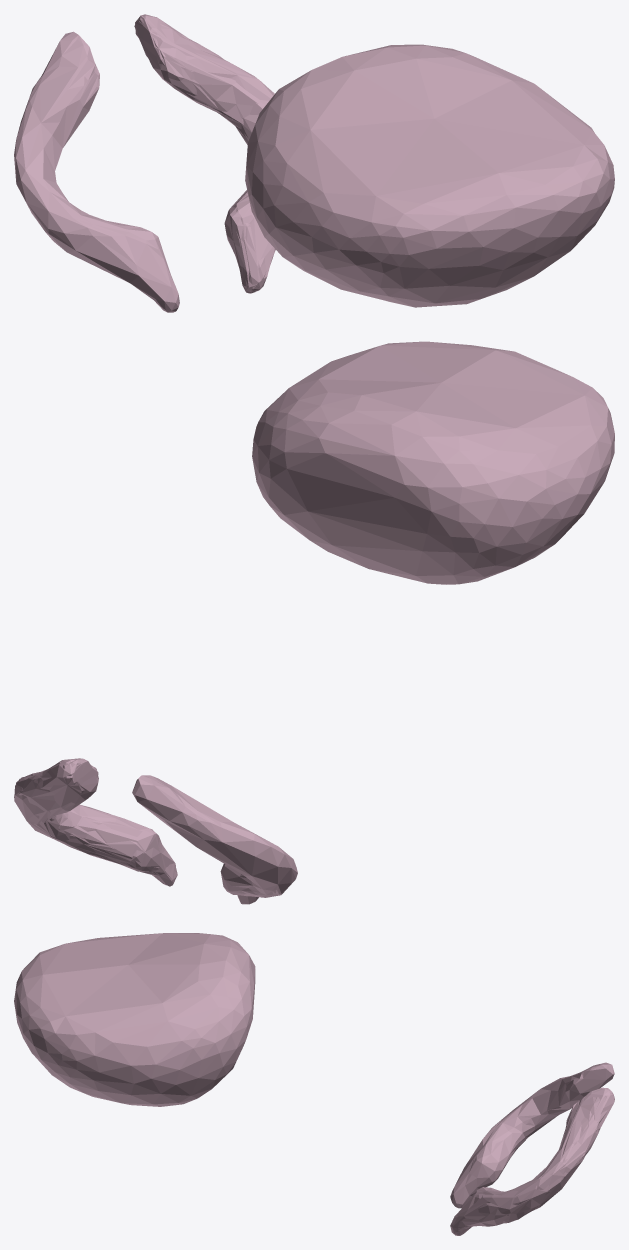
File: reproductive.glb
3 views of the same model, one above another, from view 1: azimuth 30°, elevation 25°; view 2: azimuth 150°, elevation 25°; view 3: azimuth 270°, elevation 25° (orthographic). The views are drawn at different scales.
Visible parts, largest first — view 1: FJ3139, FJ2548, FJ1450, FJ2543, FJ1450M; view 2: FJ3139, FJ1450, FJ2543, FJ1450M, FJ2548; view 3: FJ3139, FJ1450, FJ1450M, FJ2543, FJ2548.
Part boxes in pixels (x1,y1,x2,y2): FJ3139: [245, 44, 614, 307]; FJ2548: [16, 31, 179, 312]; FJ1450: [14, 35, 179, 312]; FJ2543: [135, 14, 275, 292]; FJ1450M: [134, 15, 274, 293]; FJ3139: [252, 341, 614, 584]; FJ1450: [132, 775, 297, 904]; FJ2543: [14, 758, 177, 885]; FJ1450M: [14, 759, 176, 886]; FJ2548: [138, 775, 297, 904]; FJ3139: [14, 933, 255, 1106]; FJ1450: [451, 1064, 614, 1208]; FJ1450M: [450, 1087, 612, 1235]; FJ2543: [451, 1088, 614, 1235]; FJ2548: [450, 1062, 610, 1207].
Bounding box in the file's own units: 0.0343 × 0.0388 × 0.0796.
